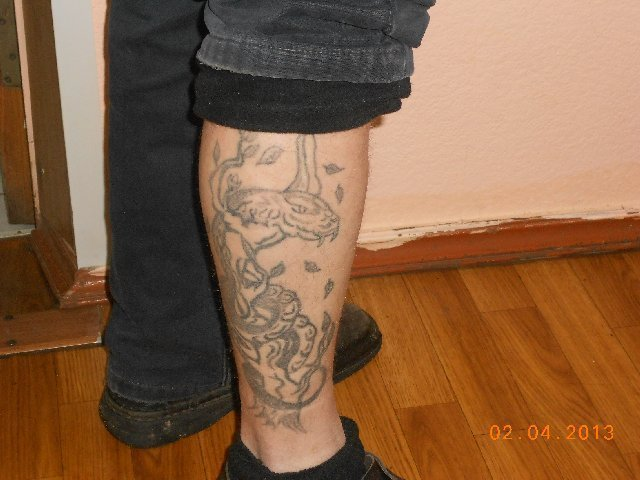tatu7_zmeya: (203, 134, 360, 444)
